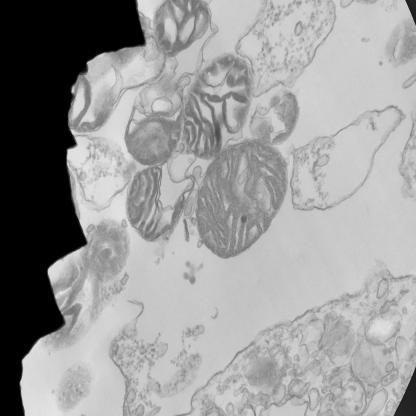mitochondria: (197, 143, 287, 260), (184, 59, 252, 157), (126, 161, 194, 244), (153, 0, 208, 56)
